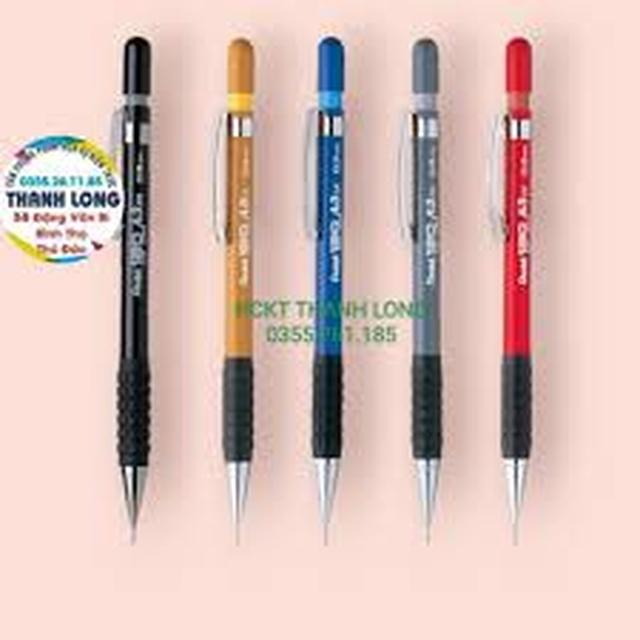pen: (474, 19, 568, 560), (300, 11, 377, 562), (394, 13, 468, 572), (206, 16, 280, 550), (88, 24, 160, 571)
